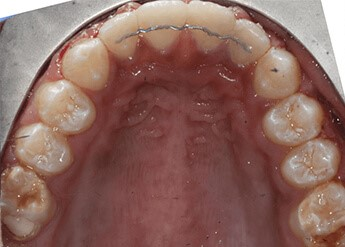UL1BC_healthy: (268, 96, 320, 145)
UL1M_decay: (297, 185, 344, 246)
UL2BC_healthy: (283, 140, 336, 186)
ULCI_decay: (188, 1, 234, 50)
ULC_decay: (255, 50, 299, 99)
ULLI_decay: (233, 20, 269, 64)
UR1BC_healthy: (40, 82, 94, 135)
UR1M_decay: (3, 174, 52, 237)
UR2BC_healthy: (29, 126, 70, 174)
URCI_decay: (138, 1, 186, 46)
URC_healthy: (64, 41, 108, 89)
URLI_decay: (100, 13, 138, 56)
